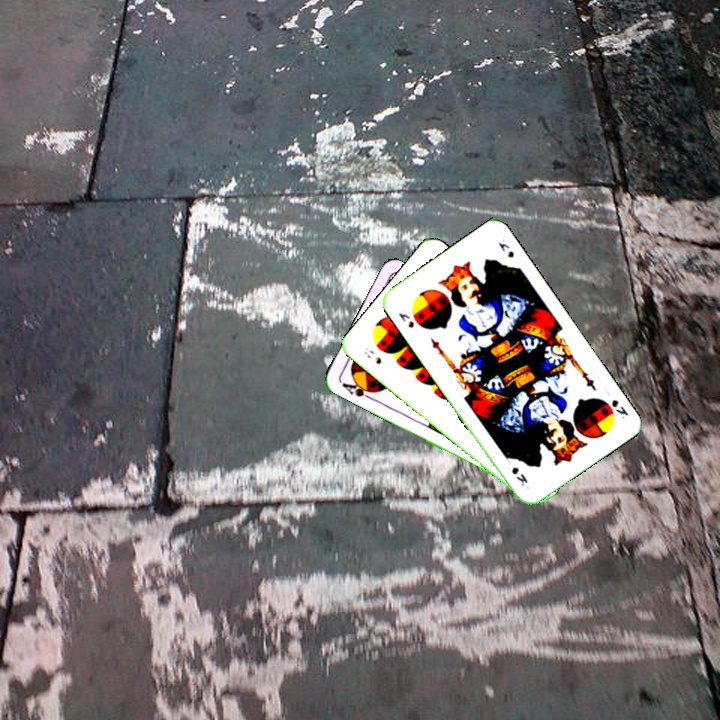S8: (360, 344, 384, 367)
SA: (338, 375, 378, 402)
SK: (607, 395, 631, 421), (394, 309, 417, 331)
